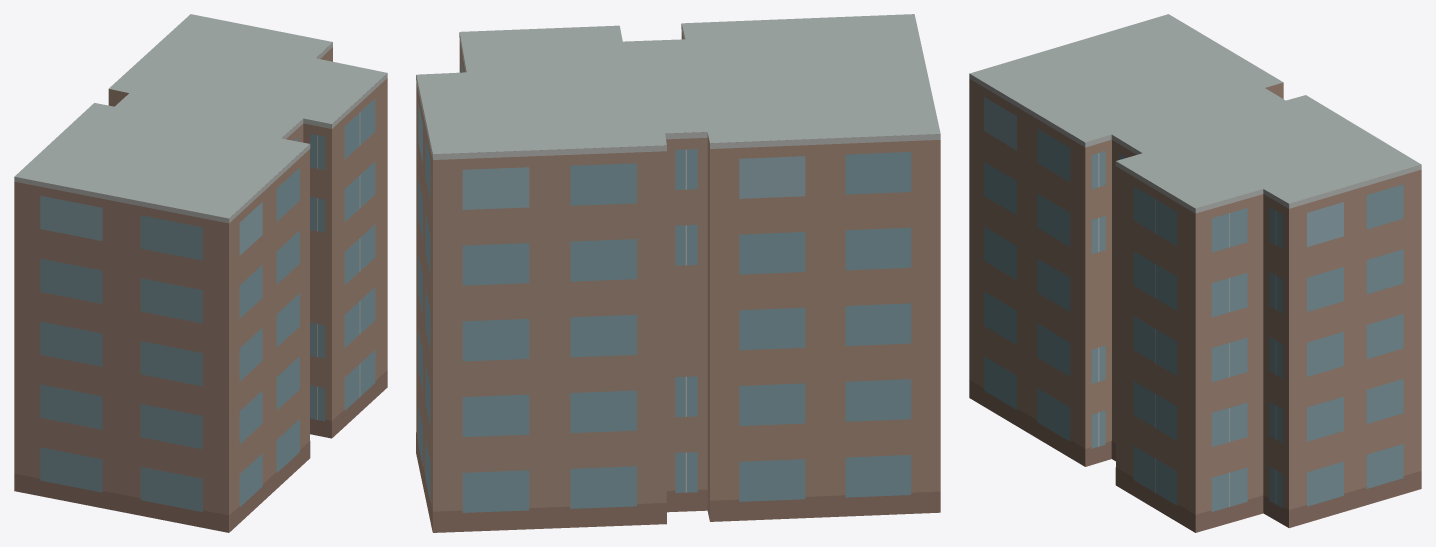
Rendered from survey-upis-32719413.glb.
3 views of the same model, side by side, from view 1: azimuth 30°, elevation 25°; view 2: azimuth 150°, elevation 25°; view 3: azimuth 270°, elevation 25° (orthographic). The views are drawn at different scales.
Parts seen in each view (by area): view 1: survey-upis-32719413.tmp; view 2: survey-upis-32719413.tmp; view 3: survey-upis-32719413.tmp.
Part boxes in pixels (x1,y1,x2,y2): survey-upis-32719413.tmp: (14, 14, 387, 532); survey-upis-32719413.tmp: (416, 14, 940, 532); survey-upis-32719413.tmp: (969, 14, 1421, 532).
Bounding box in the file's own units: 20.14 × 15.65 × 19.78.
